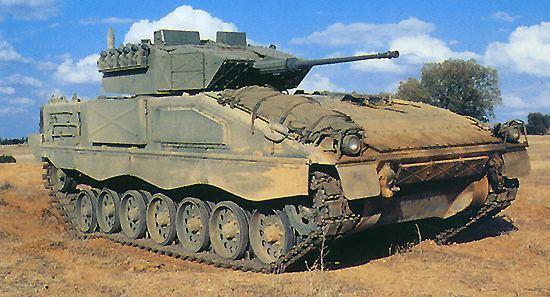MIL_IFV: (27, 27, 529, 276)
